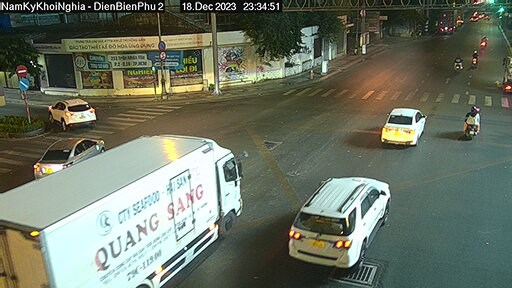car: (281, 158, 394, 270), (33, 132, 102, 176), (376, 98, 422, 151), (40, 93, 94, 130)
motorbike: (459, 108, 486, 139), (454, 55, 463, 72)
truck: (14, 130, 246, 284)
